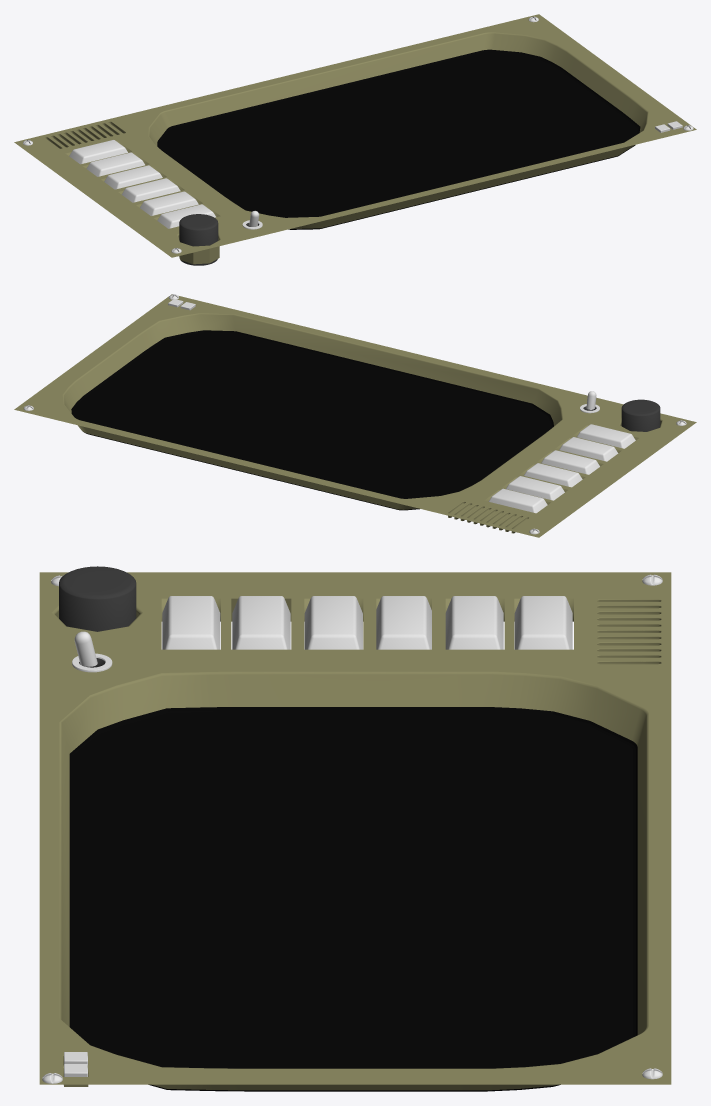
The model's file is Menu.fbx.
3 renders of one model, top to bottom at view 1: azimuth 30°, elevation 25°; view 2: azimuth 150°, elevation 25°; view 3: azimuth 270°, elevation 25°, orthographic. The views are drawn at different scales.
Parts seen in each view (by area): view 1: Base, Dial, RectangleButton5, RectangleButton4, RectangleButton1, RectangleButton2, RectangleButton3, RectangleButton6; view 2: Base, Dial, RectangleButton1, RectangleButton2, RectangleButton6, RectangleButton5, RectangleButton4, RectangleButton3; view 3: Base, Dial, RectangleButton6, RectangleButton1, RectangleButton5, RectangleButton4, RectangleButton2, RectangleButton3.
Part boxes in pixels (left/top/right/bottom): Base: left=14, top=14, right=696, bottom=264; Dial: left=179, top=214, right=218, bottom=265; RectangleButton5: left=140, top=191, right=198, bottom=215; RectangleButton4: left=121, top=178, right=180, bottom=202; RectangleButton1: left=69, top=140, right=127, bottom=164; RectangleButton2: left=86, top=152, right=144, bottom=176; RectangleButton3: left=104, top=165, right=162, bottom=189; RectangleButton6: left=157, top=204, right=215, bottom=228; Base: left=14, top=294, right=696, bottom=537; Dial: left=621, top=399, right=660, bottom=431; RectangleButton1: left=488, top=488, right=547, bottom=513; RectangleButton2: left=506, top=476, right=564, bottom=500; RectangleButton6: left=577, top=424, right=635, bottom=448; RectangleButton5: left=559, top=437, right=618, bottom=461; RectangleButton4: left=541, top=450, right=599, bottom=474; RectangleButton3: left=524, top=463, right=582, bottom=487; Base: left=39, top=572, right=671, bottom=1091; Dial: left=59, top=566, right=136, bottom=631; RectangleButton6: left=162, top=596, right=220, bottom=649; RectangleButton1: left=514, top=596, right=572, bottom=649; RectangleButton5: left=232, top=596, right=290, bottom=649; RectangleButton4: left=304, top=596, right=362, bottom=649; RectangleButton2: left=445, top=596, right=503, bottom=649; RectangleButton3: left=376, top=596, right=431, bottom=649.
Bounding box in the file's own units: 5.01 × 0.3309 × 2.61.
